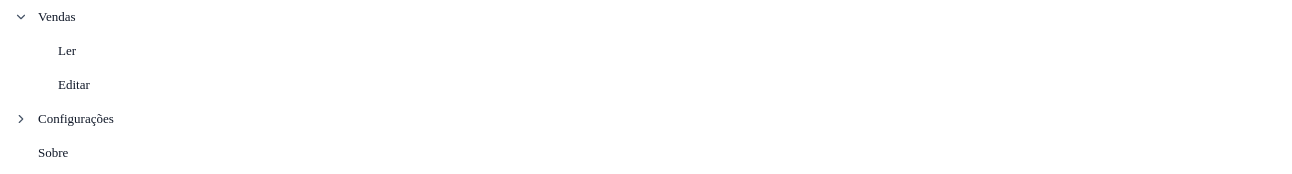
Test: TreeView › collapses an expanded node on a second click
The image size is (1292, 174).
Step 1. Click the text "Vendas" → point(45, 16), box [14,9,76,24]
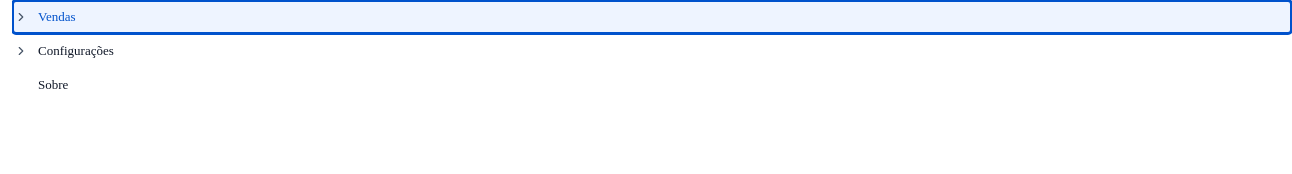
expect the text "Ler" is gone: met
